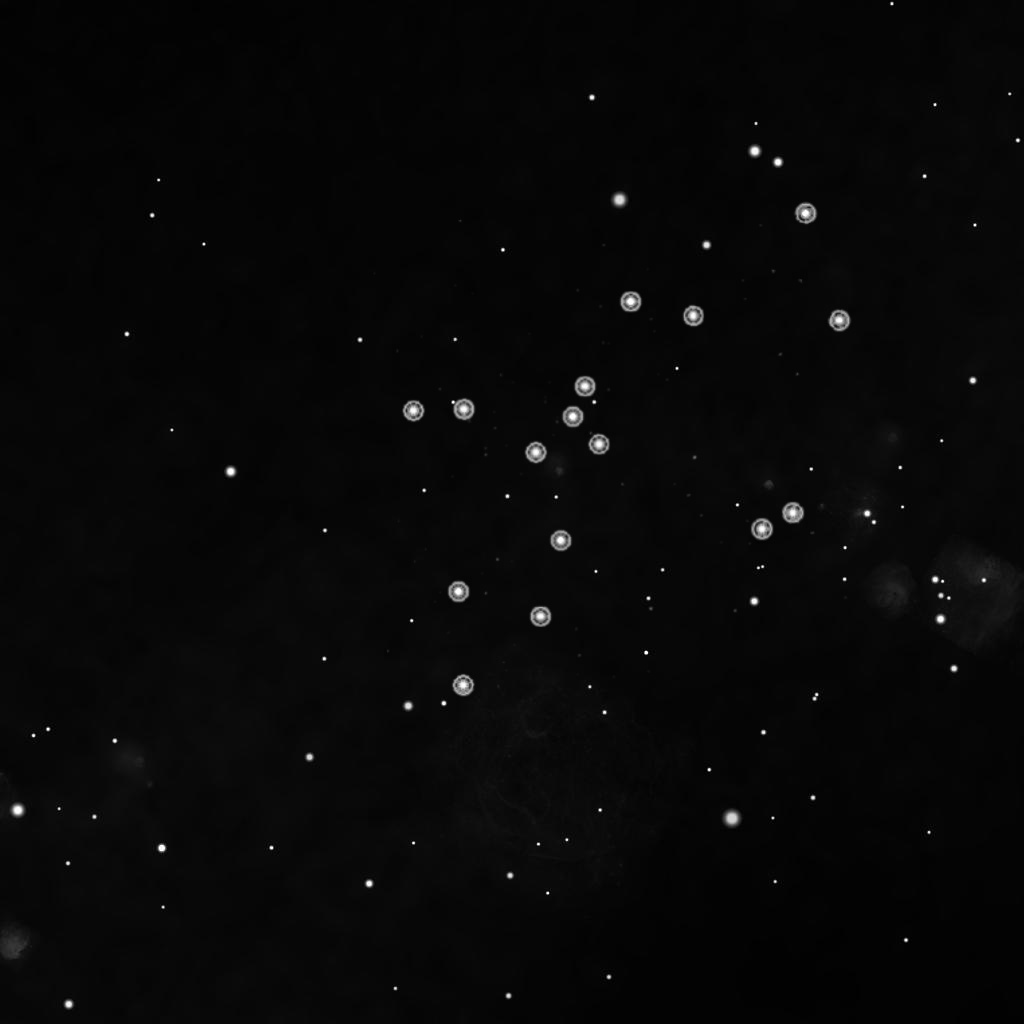canis_major: (519, 289, 707, 469)
